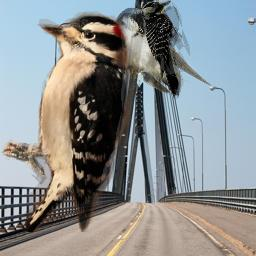Swallow: (107, 6, 213, 95)
Woodpecker: (0, 9, 131, 232), (141, 0, 190, 101)
